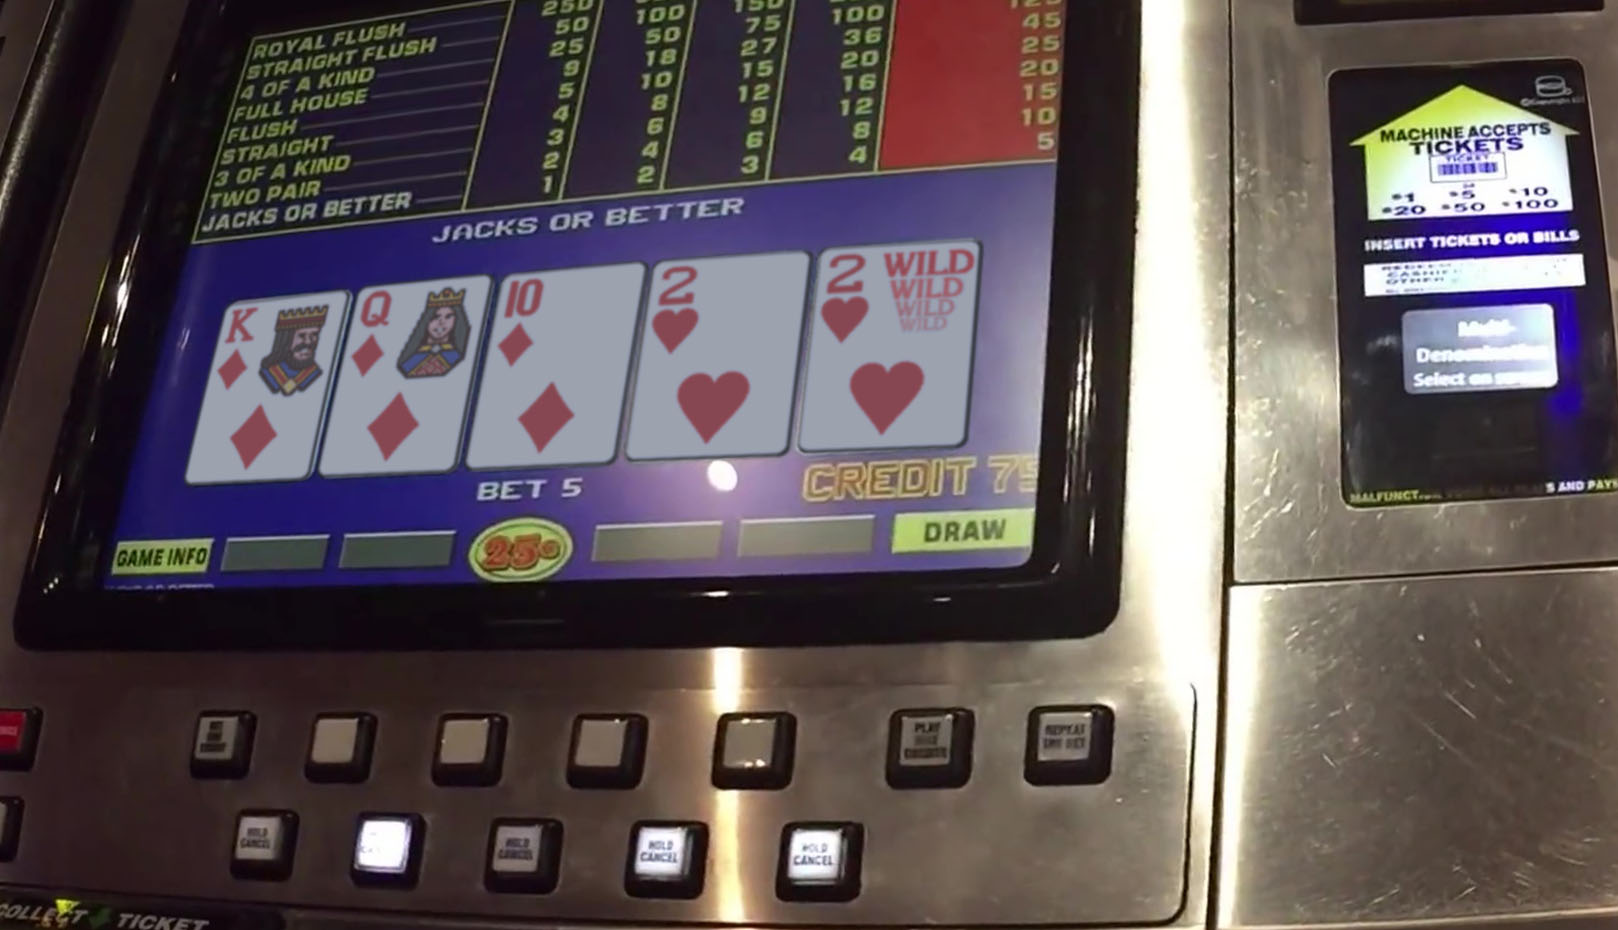DK: (214, 296, 334, 477)
DQ: (344, 280, 477, 471)
DT: (485, 268, 635, 464)
H2: (645, 256, 792, 460)
H2W: (821, 248, 965, 444)
